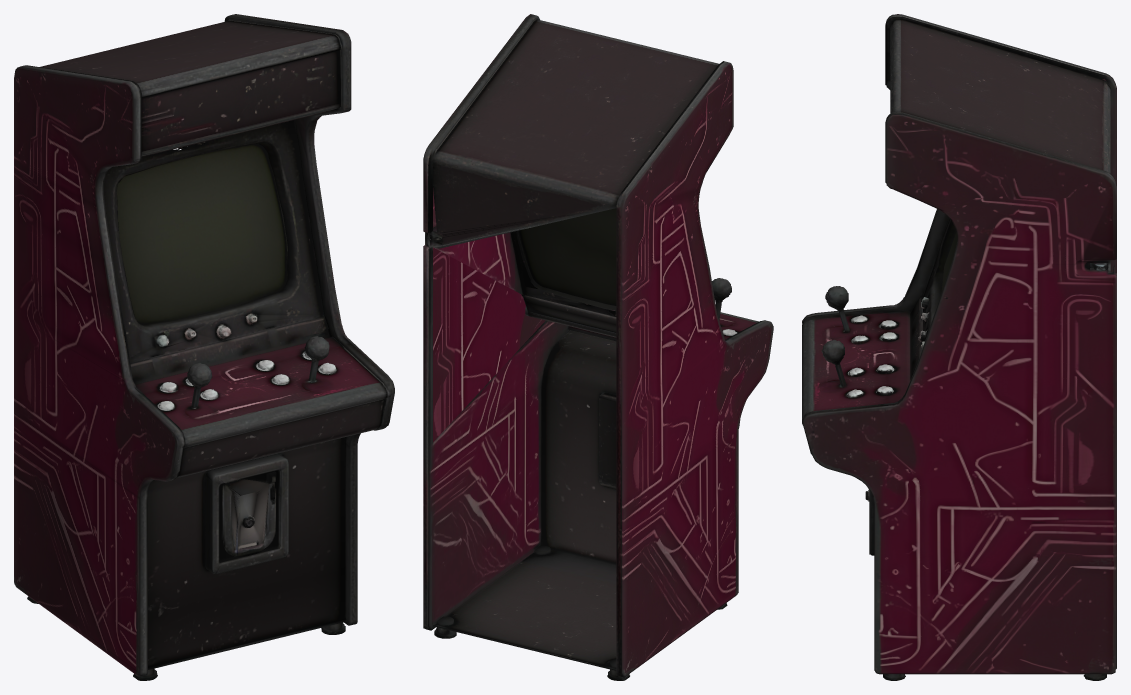
3 renders of one model, left to right at view 1: azimuth 30°, elevation 25°; view 2: azimuth 150°, elevation 25°; view 3: azimuth 270°, elevation 25°, orthographic. The views are drawn at different scales.
Visible parts, largest first — view 1: tripo_node_f742c462-a035-403c-ab39-1b5511c52a06; view 2: tripo_node_f742c462-a035-403c-ab39-1b5511c52a06; view 3: tripo_node_f742c462-a035-403c-ab39-1b5511c52a06.
Boxes of the visible parts, bbox=[...] form: tripo_node_f742c462-a035-403c-ab39-1b5511c52a06: bbox=[14, 14, 394, 680]; tripo_node_f742c462-a035-403c-ab39-1b5511c52a06: bbox=[423, 14, 773, 680]; tripo_node_f742c462-a035-403c-ab39-1b5511c52a06: bbox=[802, 14, 1116, 680].
Size of the model in its own units: 0.3848 by 0.998 by 0.502.
1 material, 1 textured.
